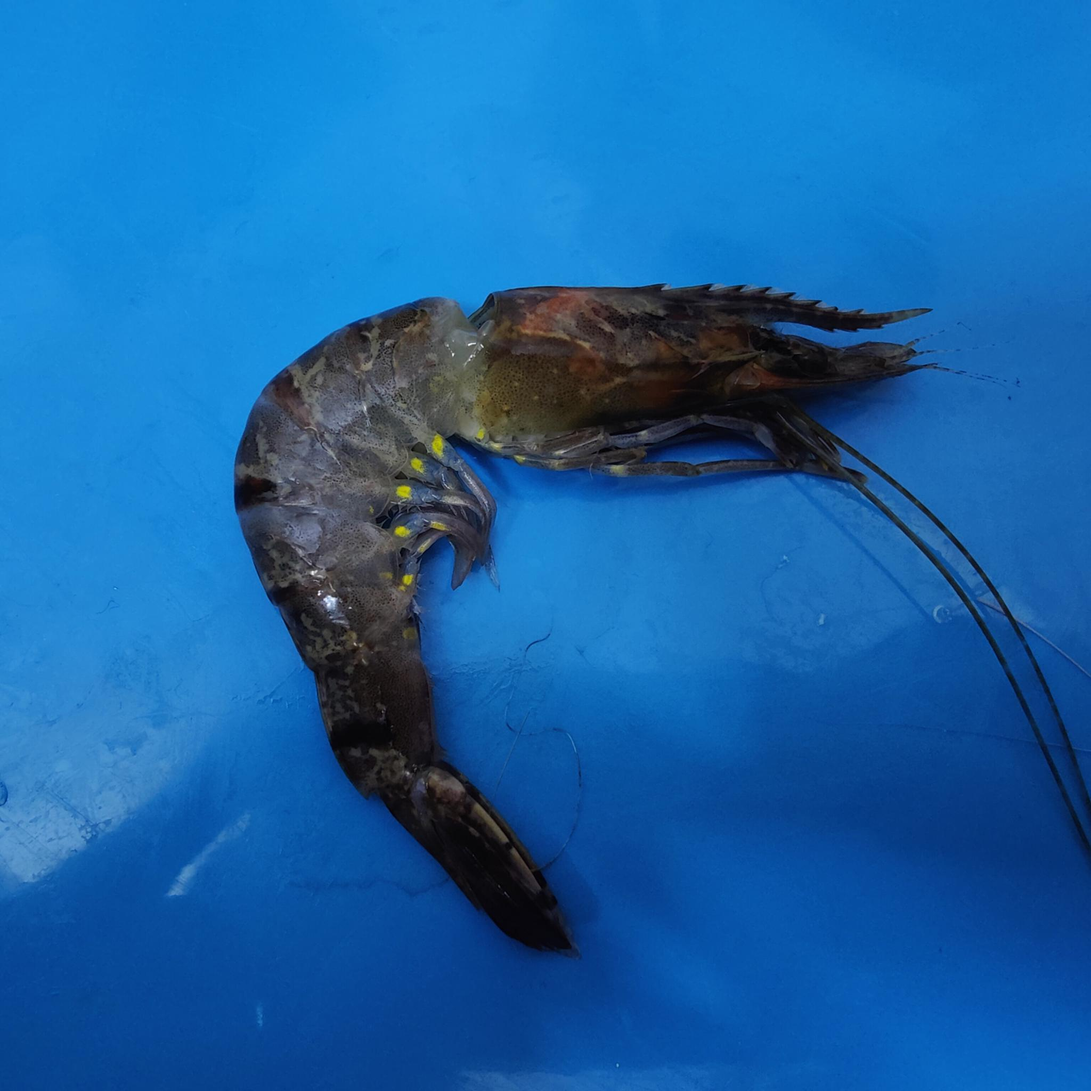whitespot: (340, 298, 774, 444)
